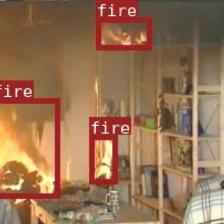fire: (0, 97, 59, 197), (96, 17, 150, 49), (89, 134, 116, 183)
